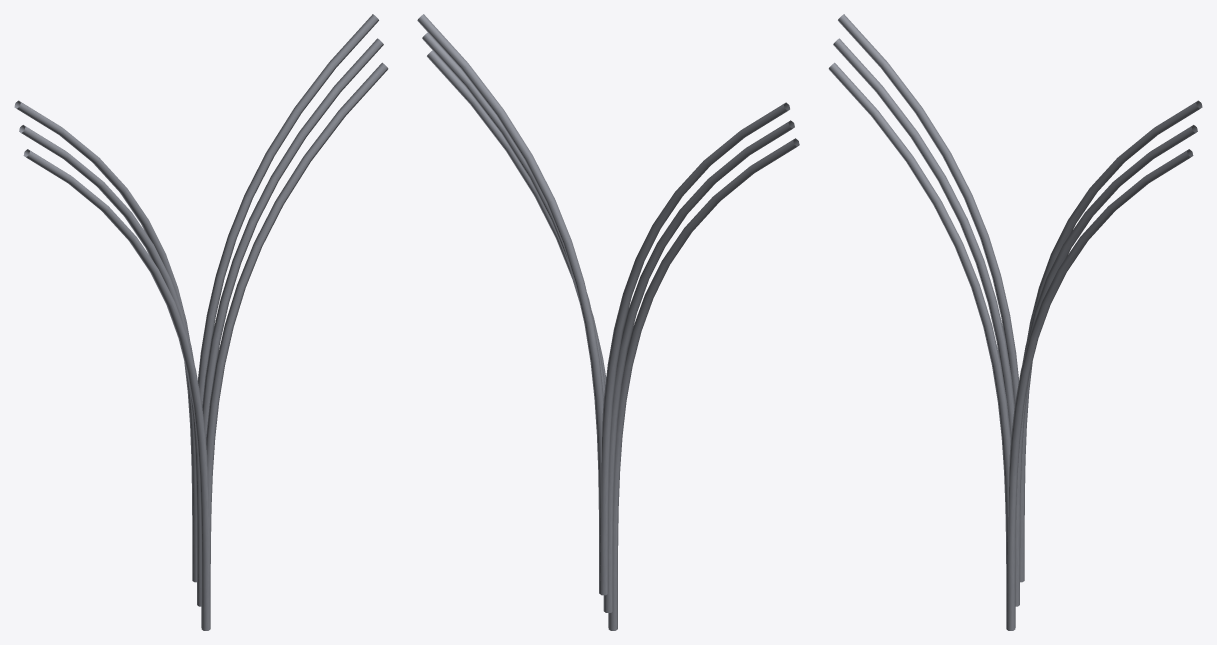
File: angel.fbx
3 views of the same model, side by side, from view 1: azimuth 30°, elevation 25°; view 2: azimuth 150°, elevation 25°; view 3: azimuth 330°, elevation 25° (orthographic). The views are drawn at different scales.
Parts seen in each view (by area): view 1: Cube.006; view 2: Cube.006; view 3: Cube.006.
Boxes of the visible parts, x1,y1,x2,y2 form: Cube.006: [14, 14, 388, 630]; Cube.006: [417, 14, 799, 630]; Cube.006: [828, 14, 1202, 630].
Bounding box in the file's own units: 1568 × 2333 × 104.
